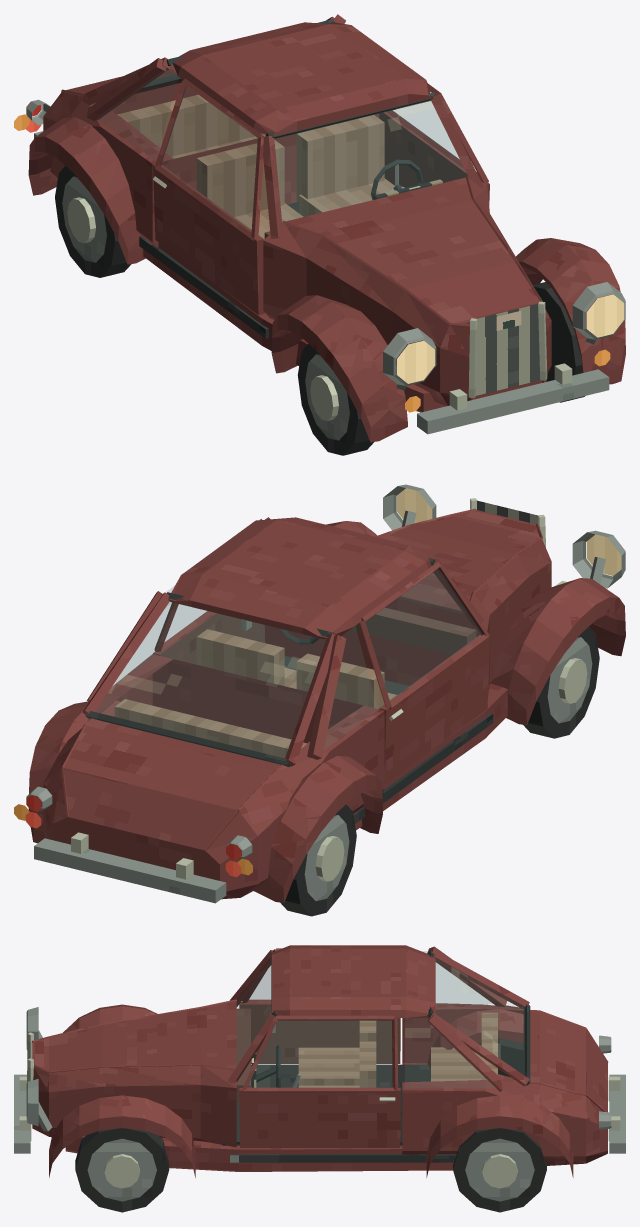
Rendered from fenmere-1938.glb.
The picture shows the model from 3 angles, top to bottom: view 1: azimuth 30°, elevation 25°; view 2: azimuth 150°, elevation 25°; view 3: azimuth 270°, elevation 25°; orthographic projection. The views are drawn at different scales.
Parts seen in each view (by area): view 1: body, Hood opening panel, Hinged side glass.001, Shaped hinged outer door.001, Padded inside door panel, Tyre tread and scalloped shoulders, Tyre tread and scalloped shoulders.001, Tyre tread and scalloped shoulders.003, Wheel side annulus.001, Wheel side annulus.003, Lens, Lens.005 (+7 smaller); view 2: body, Trunk opening panel, Hinged side glass.001, Hood opening panel, Shaped hinged outer door.001, Tyre tread and scalloped shoulders.003, Tyre tread and scalloped shoulders.001, Padded inside door panel, Wheel side annulus.001, Wheel side annulus.003, Lamp housing.002, Pressed wheel hub.001 (+8 smaller); view 3: body, Hood opening panel, Shaped hinged outer door, Hinged side glass, Trunk opening panel, Padded inside door panel.001, Tyre tread and scalloped shoulders, Tyre tread and scalloped shoulders.002, Wheel side annulus, Wheel side annulus.002, Pressed wheel hub.002, Pressed wheel hub (+6 smaller).
Part boxes in pixels (box(x1,y1,x2,y2)): body: box(28, 14, 625, 442); Hood opening panel: box(286, 177, 539, 324); Hinged side glass.001: box(161, 86, 256, 231); Shaped hinged outer door.001: box(153, 165, 258, 314); Padded inside door panel: box(379, 112, 468, 187); Tyre tread and scalloped shoulders: box(533, 282, 584, 402); Tyre tread and scalloped shoulders.001: box(297, 344, 373, 455); Tyre tread and scalloped shoulders.003: box(55, 166, 131, 277); Wheel side annulus.001: box(305, 354, 349, 440); Wheel side annulus.003: box(62, 176, 106, 262); Lens: box(586, 294, 624, 337); Lens.005: box(397, 340, 434, 383); body: box(28, 498, 625, 903); Trunk opening panel: box(63, 719, 280, 849); Hinged side glass.001: box(366, 569, 482, 701); Hood opening panel: box(378, 510, 539, 610); Shaped hinged outer door.001: box(384, 634, 489, 783); Tyre tread and scalloped shoulders.003: box(280, 804, 356, 916); Tyre tread and scalloped shoulders.001: box(523, 626, 599, 738); Padded inside door panel: box(160, 613, 265, 664); Wheel side annulus.001: box(547, 637, 592, 723); Wheel side annulus.003: box(304, 815, 349, 901); Lamp housing.002: box(572, 530, 625, 588); Pressed wheel hub.001: box(558, 658, 587, 703); body: box(14, 945, 625, 1178); Hood opening panel: box(32, 1001, 236, 1070); Shaped hinged outer door: box(239, 1090, 400, 1147); Hinged side glass: box(248, 1020, 391, 1086); Trunk opening panel: box(530, 1011, 607, 1112); Padded inside door panel.001: box(239, 1004, 400, 1063); Tyre tread and scalloped shoulders: box(75, 1128, 169, 1212); Tyre tread and scalloped shoulders.002: box(453, 1128, 546, 1212); Wheel side annulus: box(87, 1138, 156, 1201); Wheel side annulus.002: box(465, 1138, 534, 1201); Pressed wheel hub.002: box(482, 1154, 517, 1188); Pressed wheel hub: box(104, 1154, 139, 1188).
Size of the model in its own units: 2.06 by 1.66 by 4.76.
5 materials, 5 textured.
